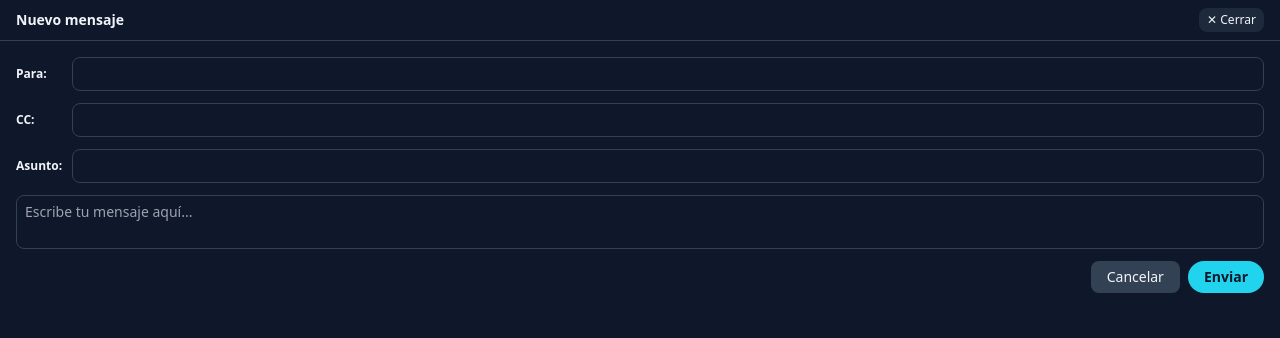
Test: ComposePage — redacción y envío › rechaza un destinatario mal formado
Type "no-es-email" into the field next to "Para:". click: (668, 74)
box: [72,57,1264,91]
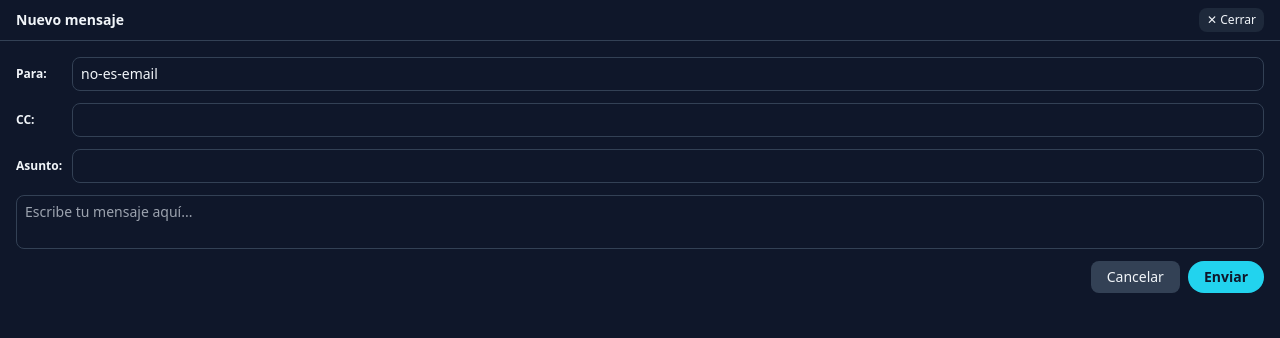
Type "Hola" into the field next to "Asunto:". click: (668, 166)
box: [72,149,1264,183]
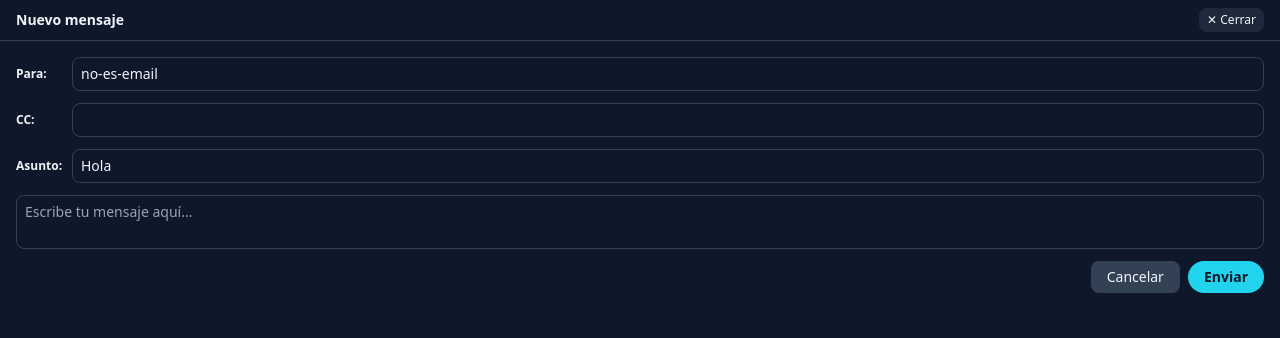
Click the button "Enviar". click: click(1226, 277)
box: [1188,261,1264,293]
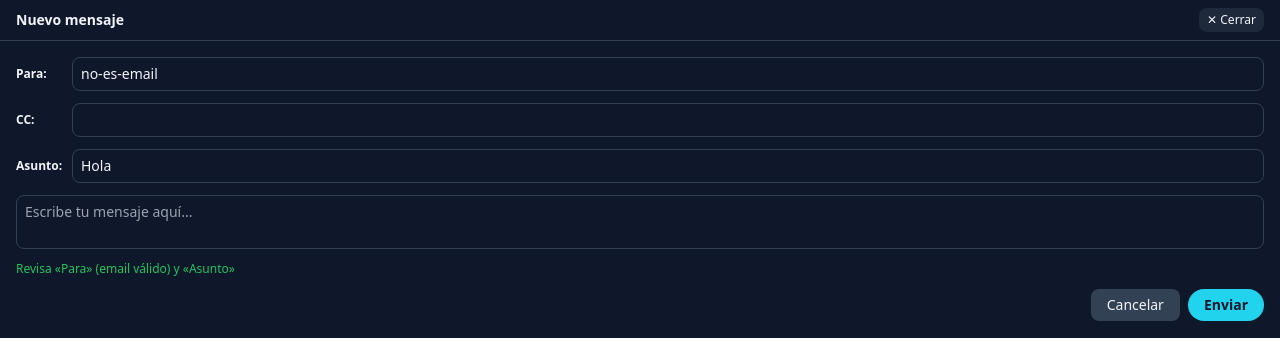
Now the text "Revisa «Para» (email válido) y «Asunto»" is shown, box [16,260,235,277]
